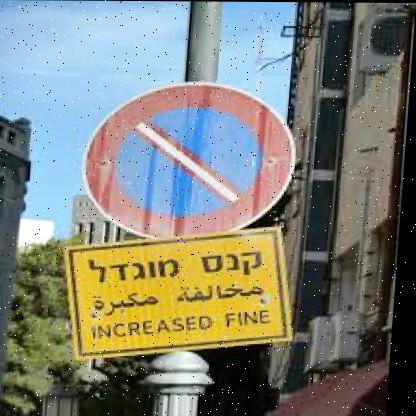No parking: (81, 77, 314, 237)
